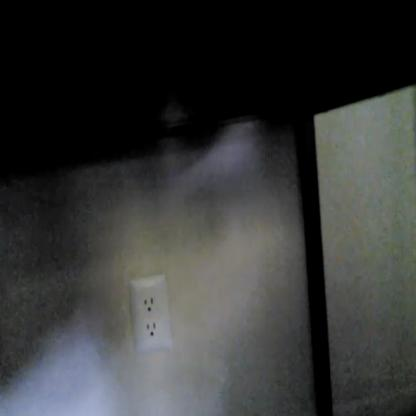OUTLET: (129, 274, 172, 354)
